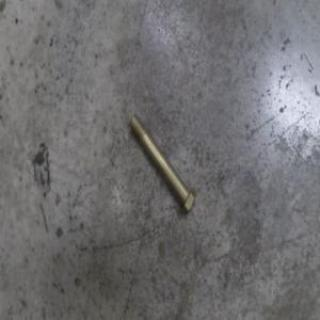Bolttrack_idkeyframe: (127, 112, 196, 215)
